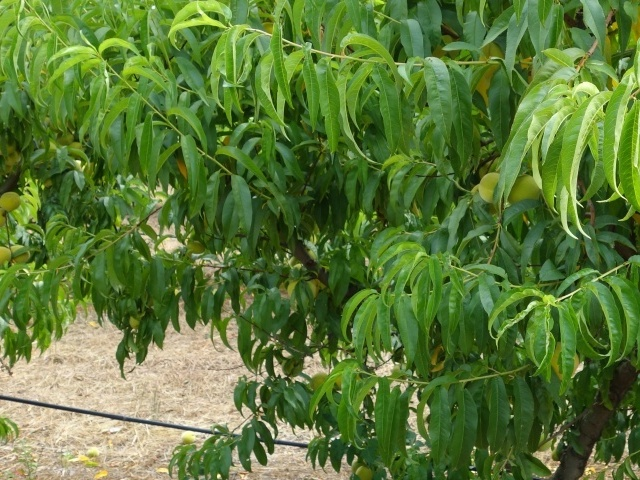peach: (508, 173, 542, 211), (473, 168, 508, 204), (5, 241, 34, 266), (306, 370, 333, 394), (1, 190, 24, 212), (351, 463, 373, 479), (1, 245, 15, 267)
